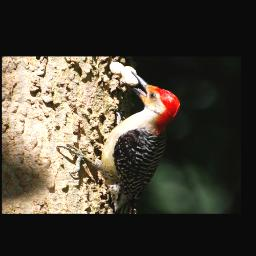Woodpecker: (53, 72, 180, 213)
